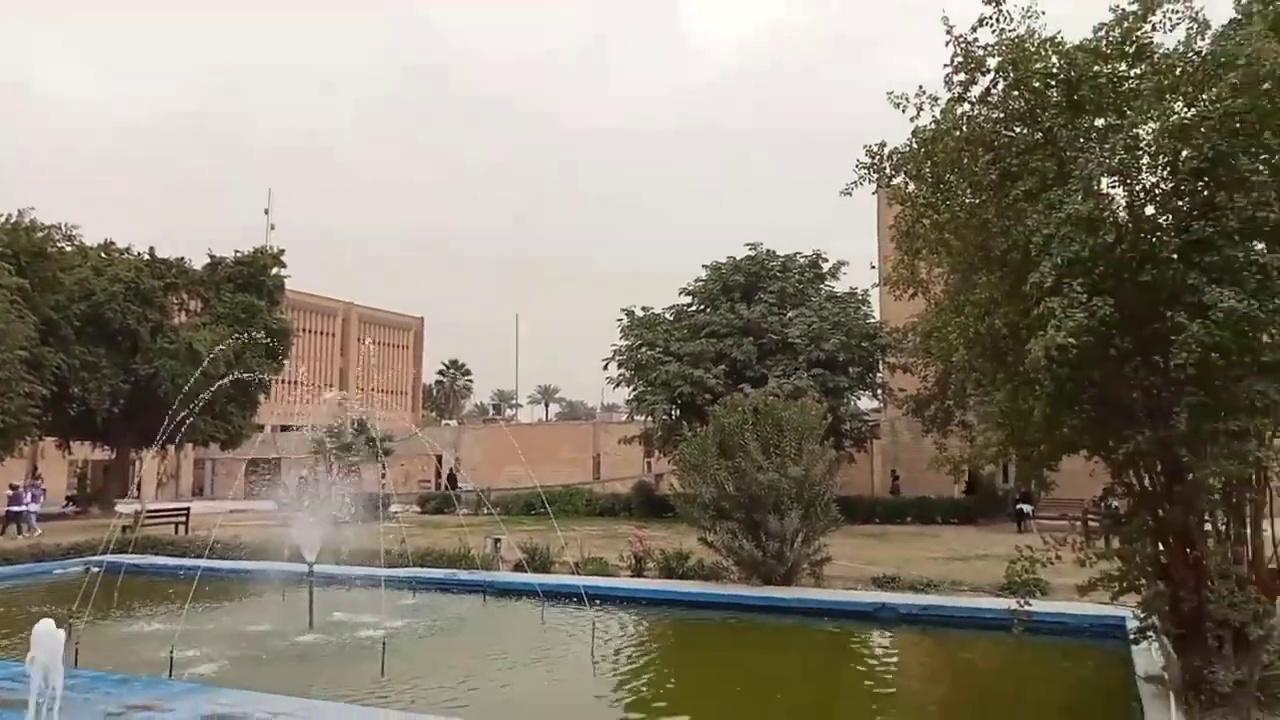fountain: (1, 329, 1174, 717), (14, 326, 602, 714), (2, 548, 1178, 718), (22, 615, 68, 718), (286, 510, 332, 577)
person: (22, 464, 46, 537), (0, 481, 28, 538), (1014, 485, 1036, 533), (888, 467, 900, 495), (445, 466, 458, 491)
tree: (838, 0, 1279, 717), (0, 205, 293, 512), (601, 240, 901, 485), (668, 386, 846, 586), (300, 414, 360, 504), (431, 356, 474, 422), (360, 425, 396, 490), (526, 382, 562, 421), (488, 387, 519, 418), (553, 398, 595, 420), (419, 382, 436, 419)
